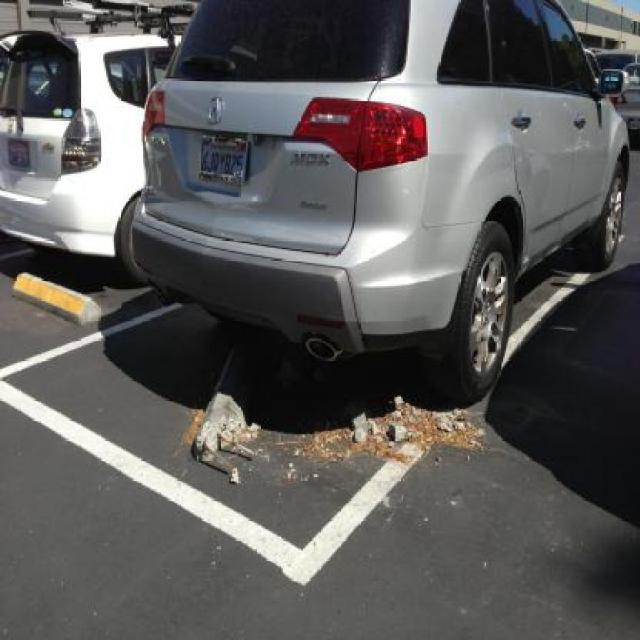License-Plates: (198, 136, 247, 186), (8, 139, 31, 166)
